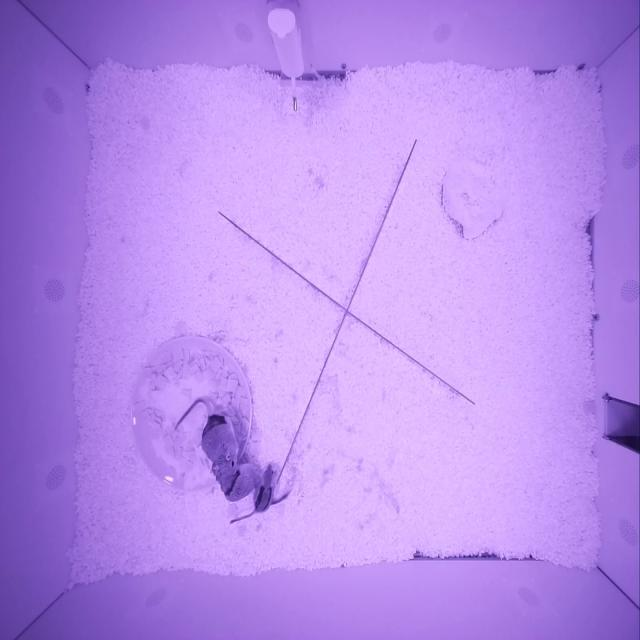adult_back: (202, 413, 239, 476)
adult_front: (209, 462, 263, 501)
pup_v_stripe: (253, 465, 275, 512)
